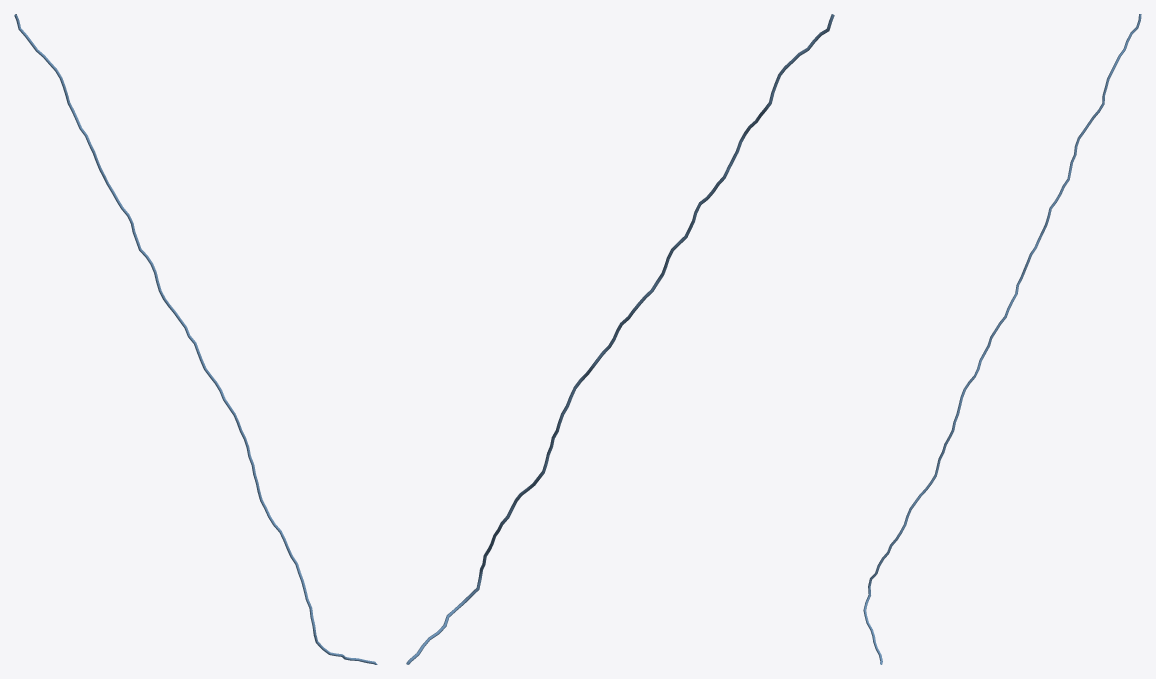
The model's file is sweep256.fbx.
3 views of the same model, side by side, from view 1: azimuth 30°, elevation 25°; view 2: azimuth 210°, elevation 25°; view 3: azimuth 270°, elevation 25° (orthographic). The views are drawn at different scales.
Parts seen in each view (by area): view 1: sweep256; view 2: sweep256; view 3: sweep256.
Boxes of the visible parts, x1,y1,x2,y2 form: sweep256: (14, 14, 377, 664); sweep256: (406, 14, 834, 664); sweep256: (863, 14, 1141, 664).
Size of the model in its own units: 1.75 by 4.53 by 2.07.
